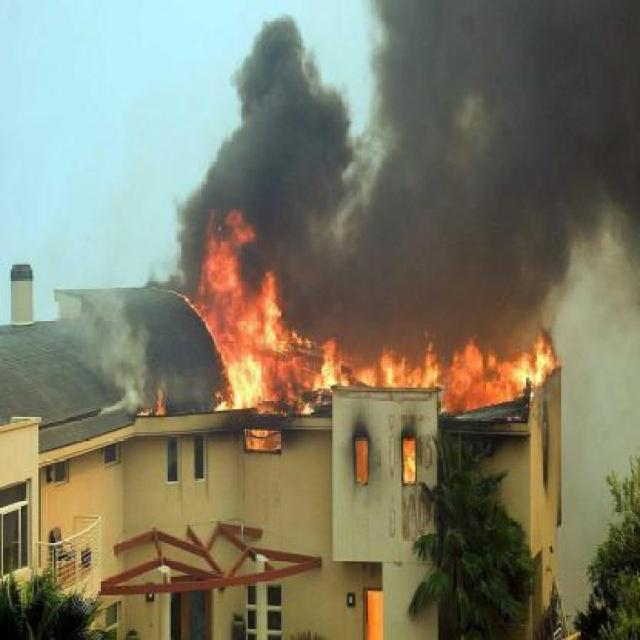Fire: (207, 329, 555, 414), (200, 211, 282, 414), (248, 430, 278, 453), (140, 388, 162, 417), (404, 446, 414, 483)
Smoke: (376, 0, 638, 254), (374, 250, 572, 336), (294, 182, 374, 322), (133, 284, 210, 392), (260, 18, 298, 210), (302, 61, 351, 188), (220, 130, 262, 212), (180, 195, 205, 292), (202, 170, 220, 212)
